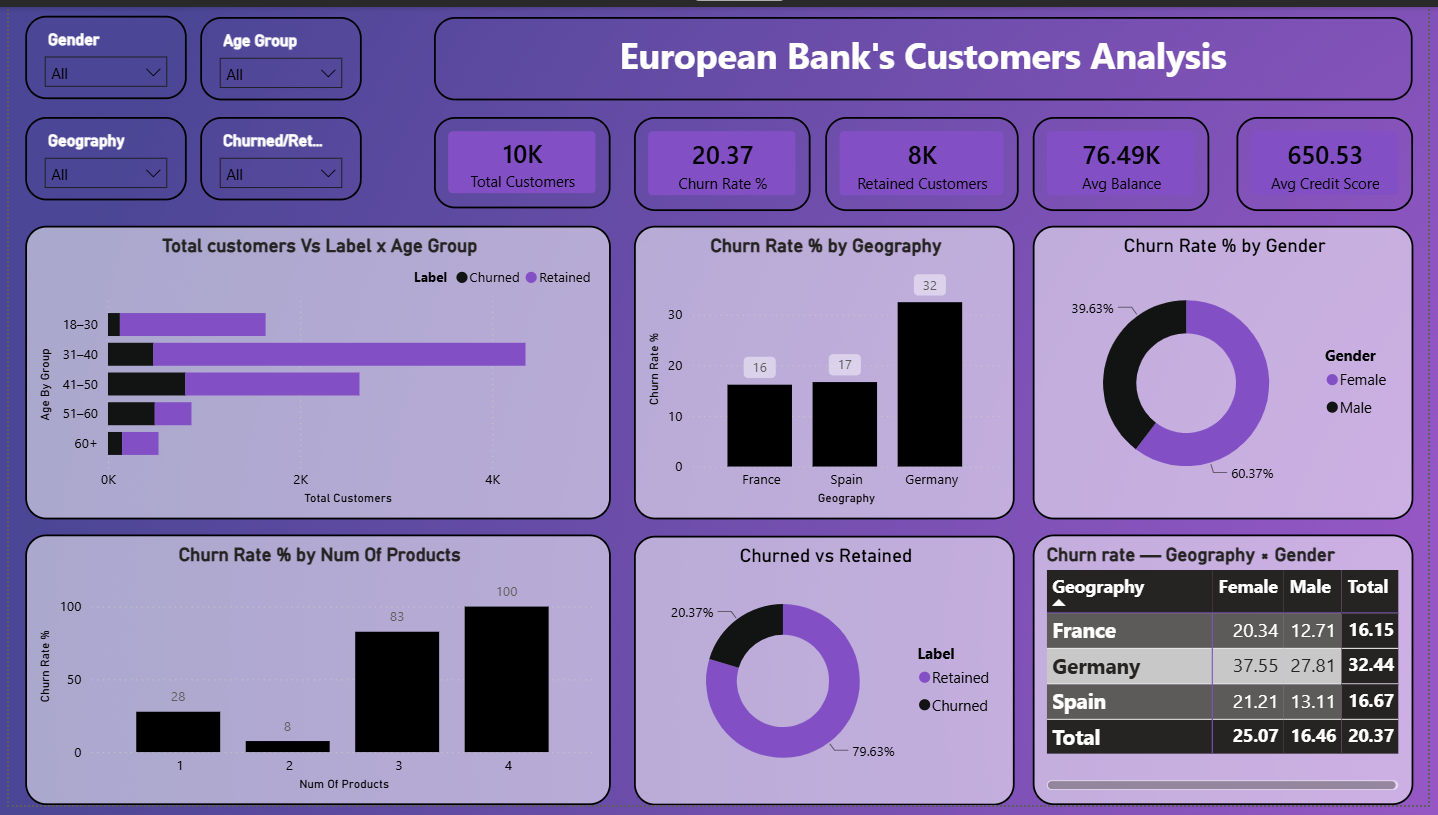

This screenshot's page, from the dashboard's own definition file:
{"tool":"powerbi","page":{"name":"Overview","canvas":[1280,720],"ordinal":0},"visuals":[{"type":"cardVisual","fields":{"Data":["European_Bank.Total Customers"]},"box":[383.7,98.8,159.3,82.6],"z":0},{"type":"cardVisual","fields":{"Data":["European_Bank.Retained Customers"]},"box":[736,98.8,174.4,84.9],"z":1000},{"type":"cardVisual","fields":{"Data":["European_Bank.Avg Balance"]},"box":[923.3,98.8,159.3,84.9],"z":2000},{"type":"cardVisual","fields":{"Data":["European_Bank.Avg Credit Score"]},"box":[1107,98.8,159.3,84.9],"z":3000},{"type":"clusteredColumnChart","fields":{"Category":["European_Bank.NumOfProducts"],"Y":["European_Bank.Churn Rate %"]},"box":[15.1,475.6,527.9,244.2],"z":4000},{"type":"barChart","title":"Total customers Vs Label x  Age Group ","fields":{"Category":["European_Bank.Age Group"],"Y":["European_Bank.Total Customers"],"Series":["European_Bank.Churned/Retained Label"]},"box":[15.1,197.7,527.9,265.1],"z":5000},{"type":"clusteredColumnChart","fields":{"Y":["European_Bank.Churn Rate %"],"Category":["European_Bank.Geography"]},"box":[564,197.7,343,265.1],"z":6000},{"type":"donutChart","fields":{"Category":["European_Bank.Gender"],"Y":["European_Bank.Churn Rate %"]},"box":[923.3,197.7,343,265.1],"z":7000},{"type":"donutChart","title":"Churned vs Retained","fields":{"Category":["European_Bank.Churn Label"],"Y":["CountNonNull(European_Bank.Churn Status)"]},"box":[564,476.7,343,243],"z":8000},{"type":"cardVisual","fields":{"Data":["European_Bank.Churn Rate %"]},"box":[564,98.8,159.3,84.9],"z":9000},{"type":"pivotTable","title":"Churn rate — Geography × Gender","fields":{"Rows":["European_Bank.Geography"],"Columns":["European_Bank.Gender"],"Values":["European_Bank.Churn Rate %"]},"box":[923.3,475.6,343,244.2],"z":10000},{"type":"slicer","fields":{"Values":["European_Bank.Gender"]},"box":[15.1,8.1,145.3,75.6],"z":11000},{"type":"slicer","fields":{"Values":["European_Bank.Geography"]},"box":[15.1,98.8,145.3,75.6],"z":12000},{"type":"slicer","fields":{"Values":["European_Bank.Age Group"]},"box":[172.1,9.3,145.3,75.6],"z":13000},{"type":"slicer","fields":{"Values":["European_Bank.Churned/Retained Label"]},"box":[172.1,98.8,145.3,75.6],"z":14000},{"type":"textbox","box":[383.7,9.3,882.6,75.6],"z":15000}]}

Visuals, with their boxes in screenshot pixels (x1, y1, x2, y2), scaled from the page's 1280x720 canvas onto the 1438x815 screenshot:
cardVisual - European_Bank.Total Customers: detection(431, 112, 610, 205)
cardVisual - European_Bank.Retained Customers: detection(827, 112, 1023, 208)
cardVisual - European_Bank.Avg Balance: detection(1037, 112, 1216, 208)
cardVisual - European_Bank.Avg Credit Score: detection(1244, 112, 1423, 208)
clusteredColumnChart - European_Bank.NumOfProducts x European_Bank.Churn Rate %: detection(17, 538, 610, 814)
"Total customers Vs Label x  Age Group " barChart: detection(17, 224, 610, 524)
clusteredColumnChart - European_Bank.Churn Rate % x European_Bank.Geography: detection(634, 224, 1019, 524)
donutChart - European_Bank.Gender x European_Bank.Churn Rate %: detection(1037, 224, 1423, 524)
"Churned vs Retained" donutChart: detection(634, 540, 1019, 814)
cardVisual - European_Bank.Churn Rate %: detection(634, 112, 813, 208)
"Churn rate — Geography × Gender" pivotTable: detection(1037, 538, 1423, 814)
slicer - European_Bank.Gender: detection(17, 9, 180, 95)
slicer - European_Bank.Geography: detection(17, 112, 180, 197)
slicer - European_Bank.Age Group: detection(193, 11, 357, 96)
slicer - European_Bank.Churned/Retained Label: detection(193, 112, 357, 197)
textbox: detection(431, 11, 1423, 96)
